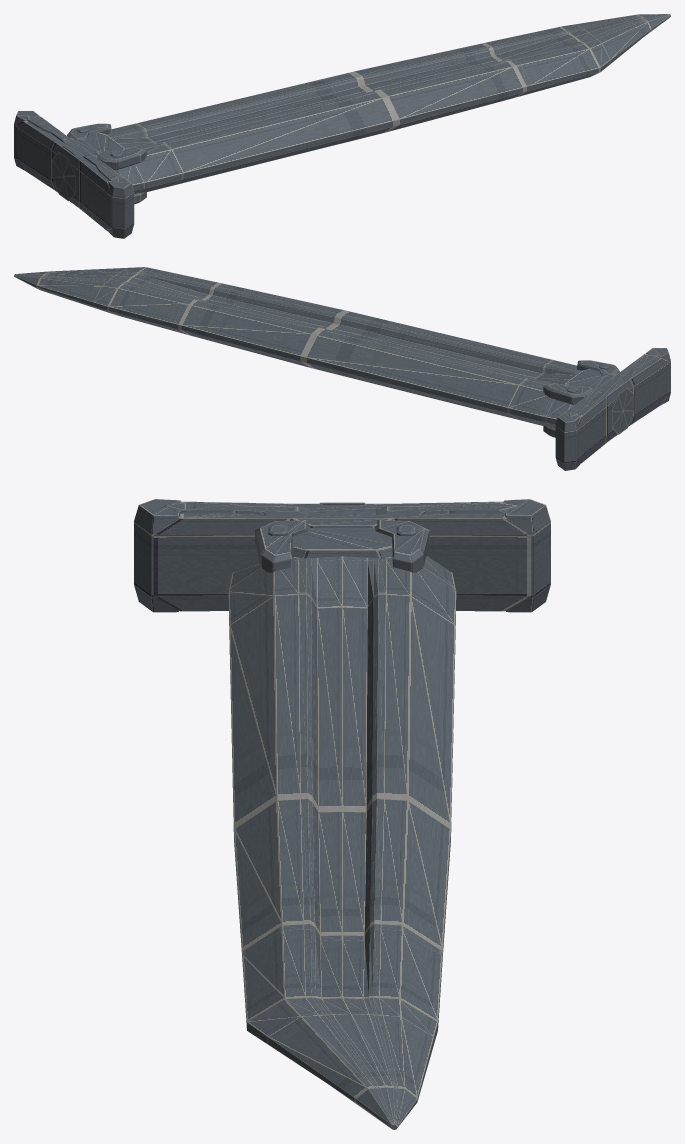
Rendered from bench_xuantie_sword_3.obj.
3 views of the same model, one above another, from view 1: azimuth 30°, elevation 25°; view 2: azimuth 150°, elevation 25°; view 3: azimuth 270°, elevation 25° (orthographic). The views are drawn at different scales.
Visible parts, largest first — view 1: geometry; view 2: geometry; view 3: geometry.
Part boxes in pixels (x1,y1,x2,y2): geometry: [14, 14, 670, 238]; geometry: [14, 267, 670, 470]; geometry: [134, 499, 550, 1129].
Bounding box in the file's own units: 0.75 × 0.0616 × 0.2272.
